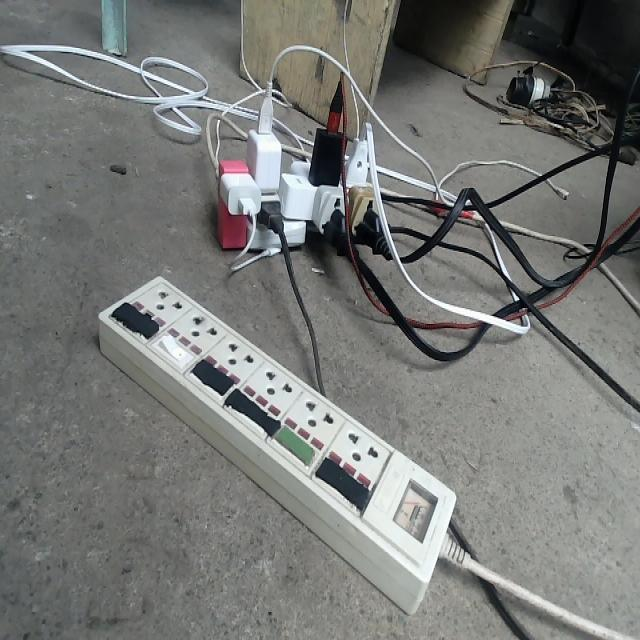-: (215, 73, 403, 259)
